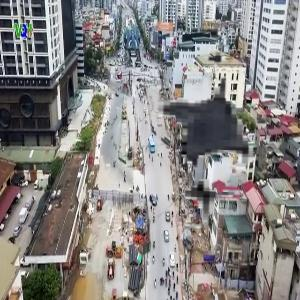drone: (77, 10, 300, 234)
